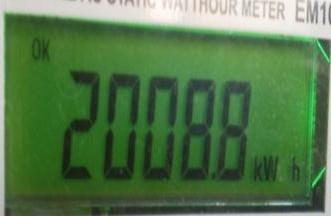.: (248, 153, 303, 189)
0: (209, 171, 218, 183)
1: (102, 72, 142, 181), (143, 77, 179, 182)
3: (53, 61, 103, 186)
9: (180, 74, 215, 184), (218, 78, 252, 185)
